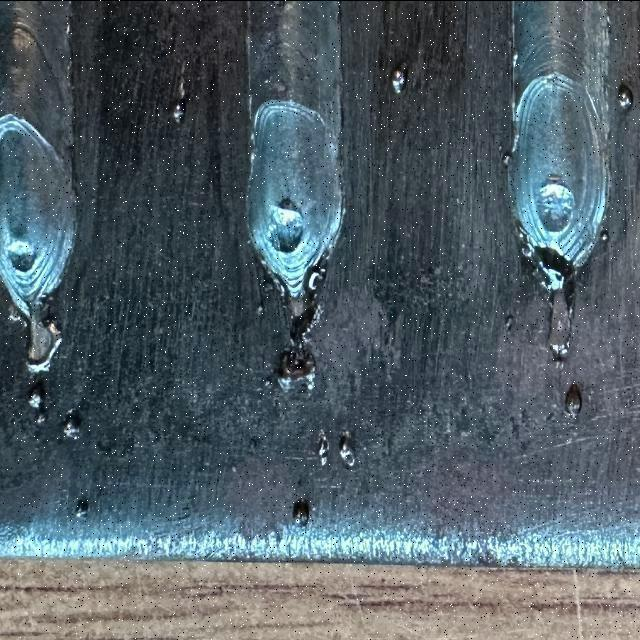Excess Reinforcement: (12, 295, 61, 373), (275, 347, 315, 388)
Spatters: (339, 430, 355, 465), (565, 383, 581, 417), (292, 498, 309, 527), (62, 413, 80, 438), (618, 83, 632, 108), (319, 430, 329, 464), (392, 68, 406, 92), (29, 388, 44, 407), (75, 497, 89, 517), (175, 98, 186, 122), (36, 412, 46, 423), (502, 152, 510, 165), (256, 302, 264, 315), (600, 230, 609, 240), (250, 437, 258, 448), (265, 377, 271, 387)
